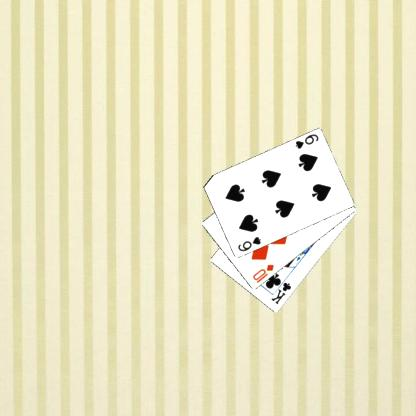10D: (250, 262, 275, 284)
6S: (235, 234, 262, 253), (292, 132, 320, 150)
KC: (269, 275, 292, 306)
